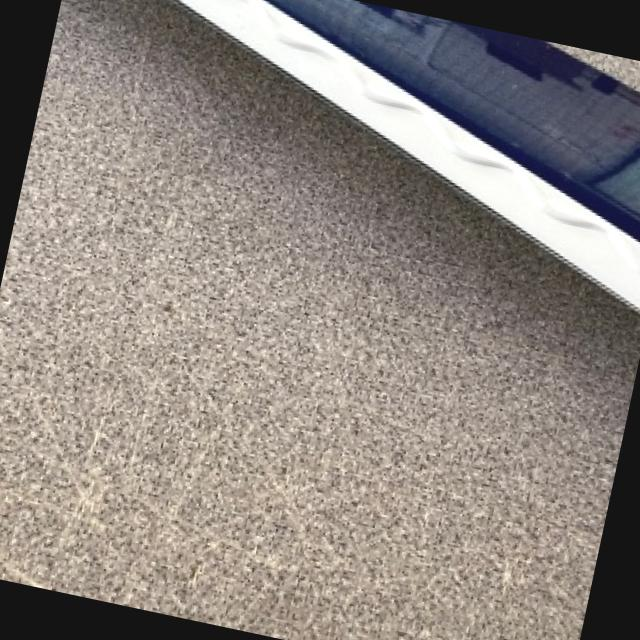healthy: (180, 0, 640, 306)
